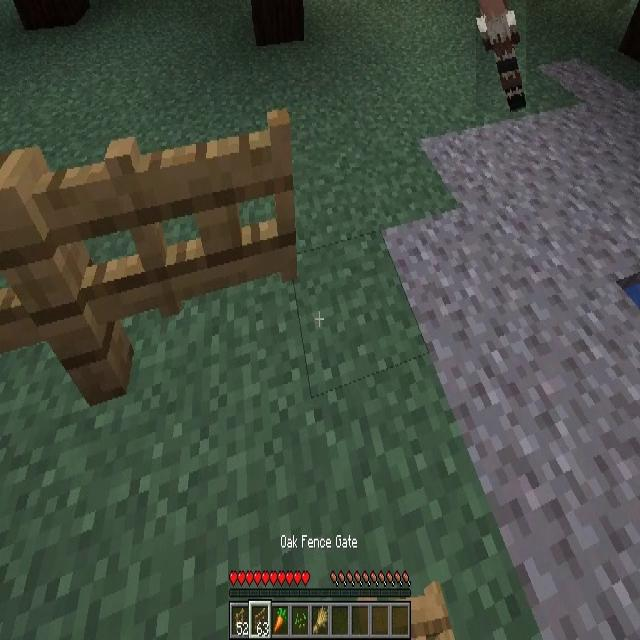people: (476, 0, 526, 112)
